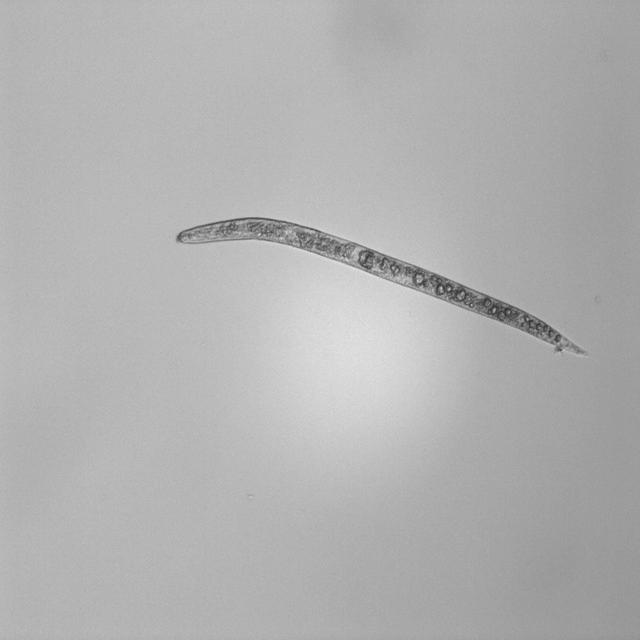Radopholus: (168, 207, 594, 362)
